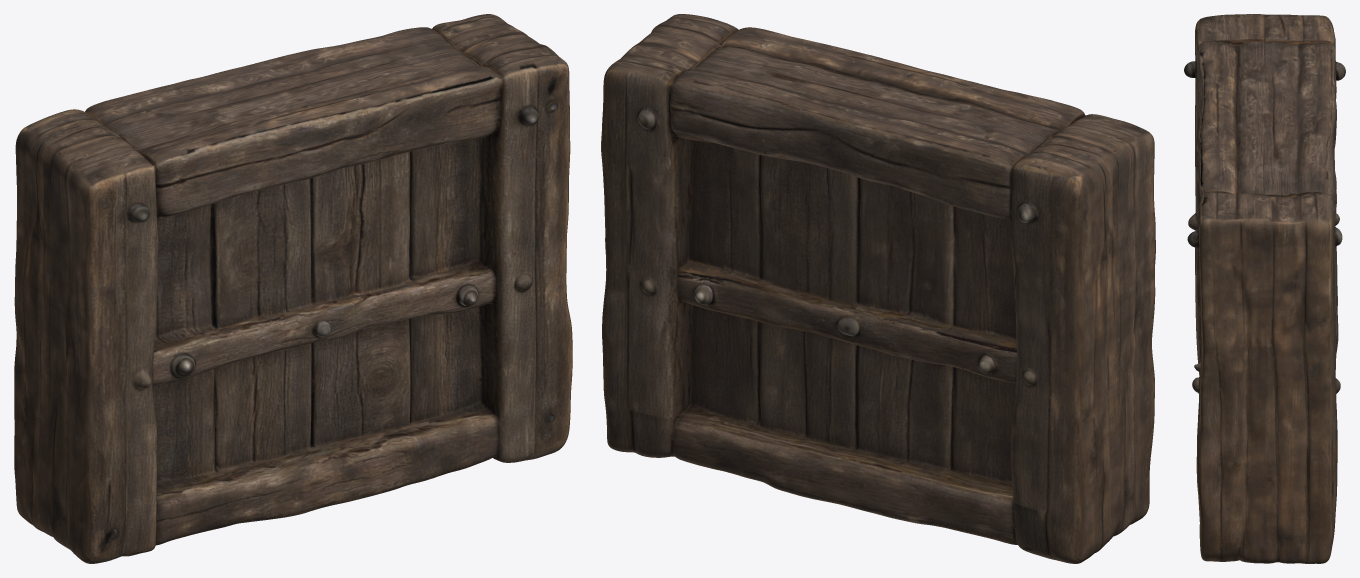
The model's file is Wooden_Barricade_0823125747_texture.fbx.
3 renders of one model, left to right at view 1: azimuth 30°, elevation 25°; view 2: azimuth 150°, elevation 25°; view 3: azimuth 270°, elevation 25°, orthographic. The views are drawn at different scales.
Parts seen in each view (by area): view 1: input; view 2: input; view 3: input.
Part boxes in pixels (x1=…): input: x1=14, y1=14, x2=572, y2=563; input: x1=601, y1=14, x2=1155, y2=563; input: x1=1184, y1=14, x2=1345, y2=563.
Size of the model in its own units: 199 by 155 by 64.21.
1 material, 1 textured.
